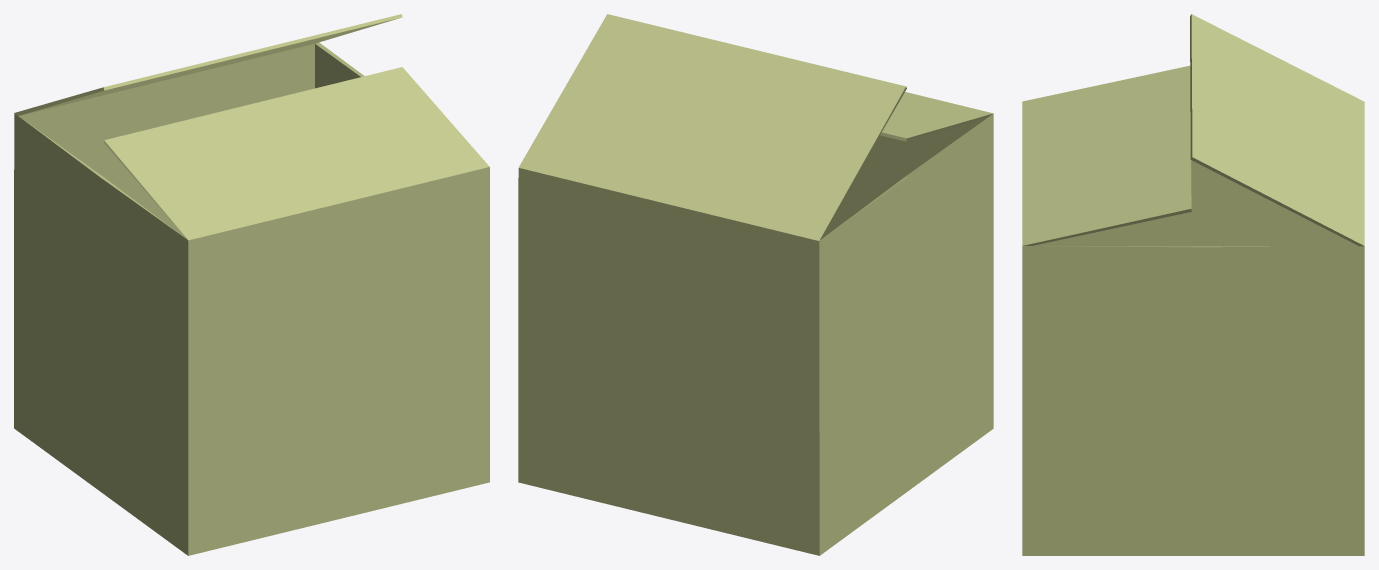
3 views of the same model, side by side, from view 1: azimuth 30°, elevation 25°; view 2: azimuth 150°, elevation 25°; view 3: azimuth 270°, elevation 25° (orthographic).
Parts seen in each view (by area): view 1: Cube.077; view 2: Cube.077; view 3: Cube.077.
Part boxes in pixels (bbox=[...]): Cube.077: bbox=[14, 14, 489, 555]; Cube.077: bbox=[518, 14, 993, 555]; Cube.077: bbox=[1022, 14, 1364, 555].
Bounding box in the file's own units: 0.6757 × 0.8672 × 0.6765.
